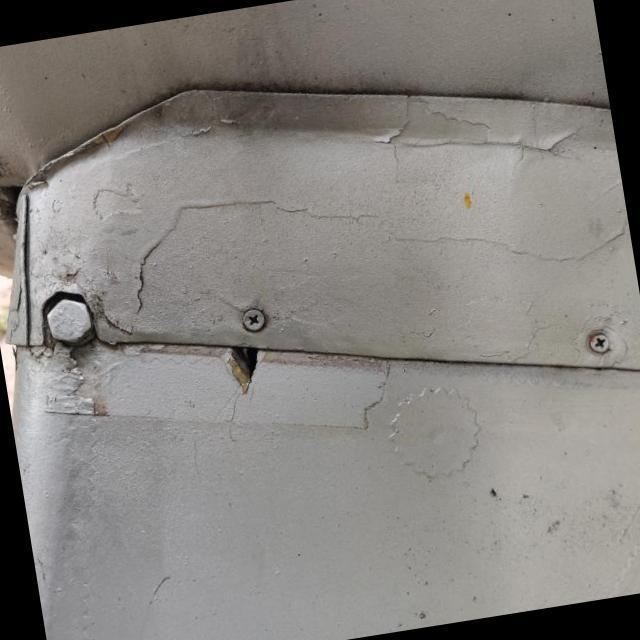Rupture: (199, 323, 286, 418)
